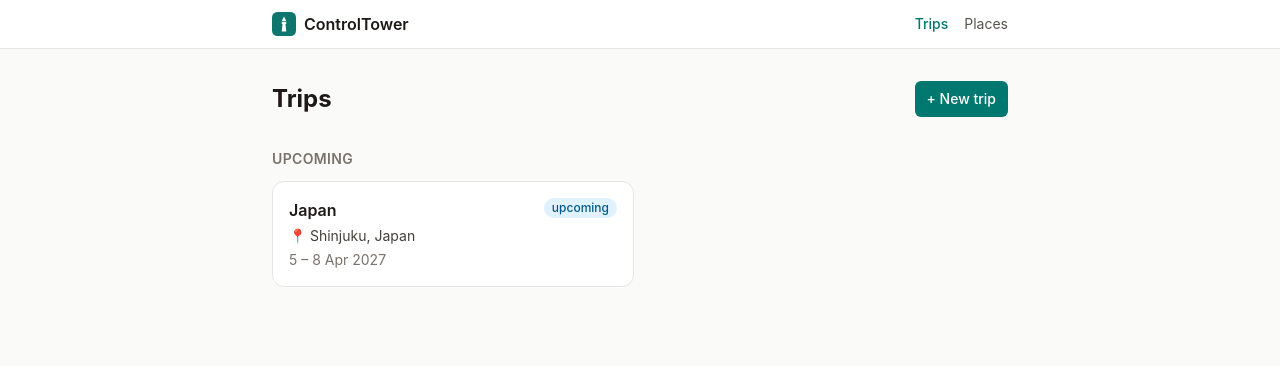
App › opens a trip’s timeline
The width and height of the screenshot is (1280, 366).
Click the heading "Japan". click: (313, 210)
box: [289,198,337,222]
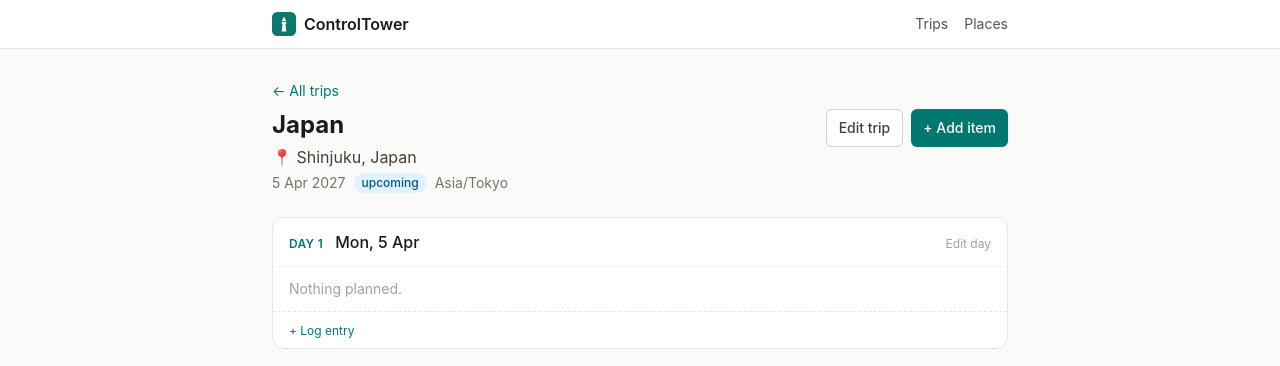
Expected: the element "Day 1" shows "Nothing planned.", [289,280,402,297]
Expected: the heading "Japan" is shown, [272,110,344,139]
